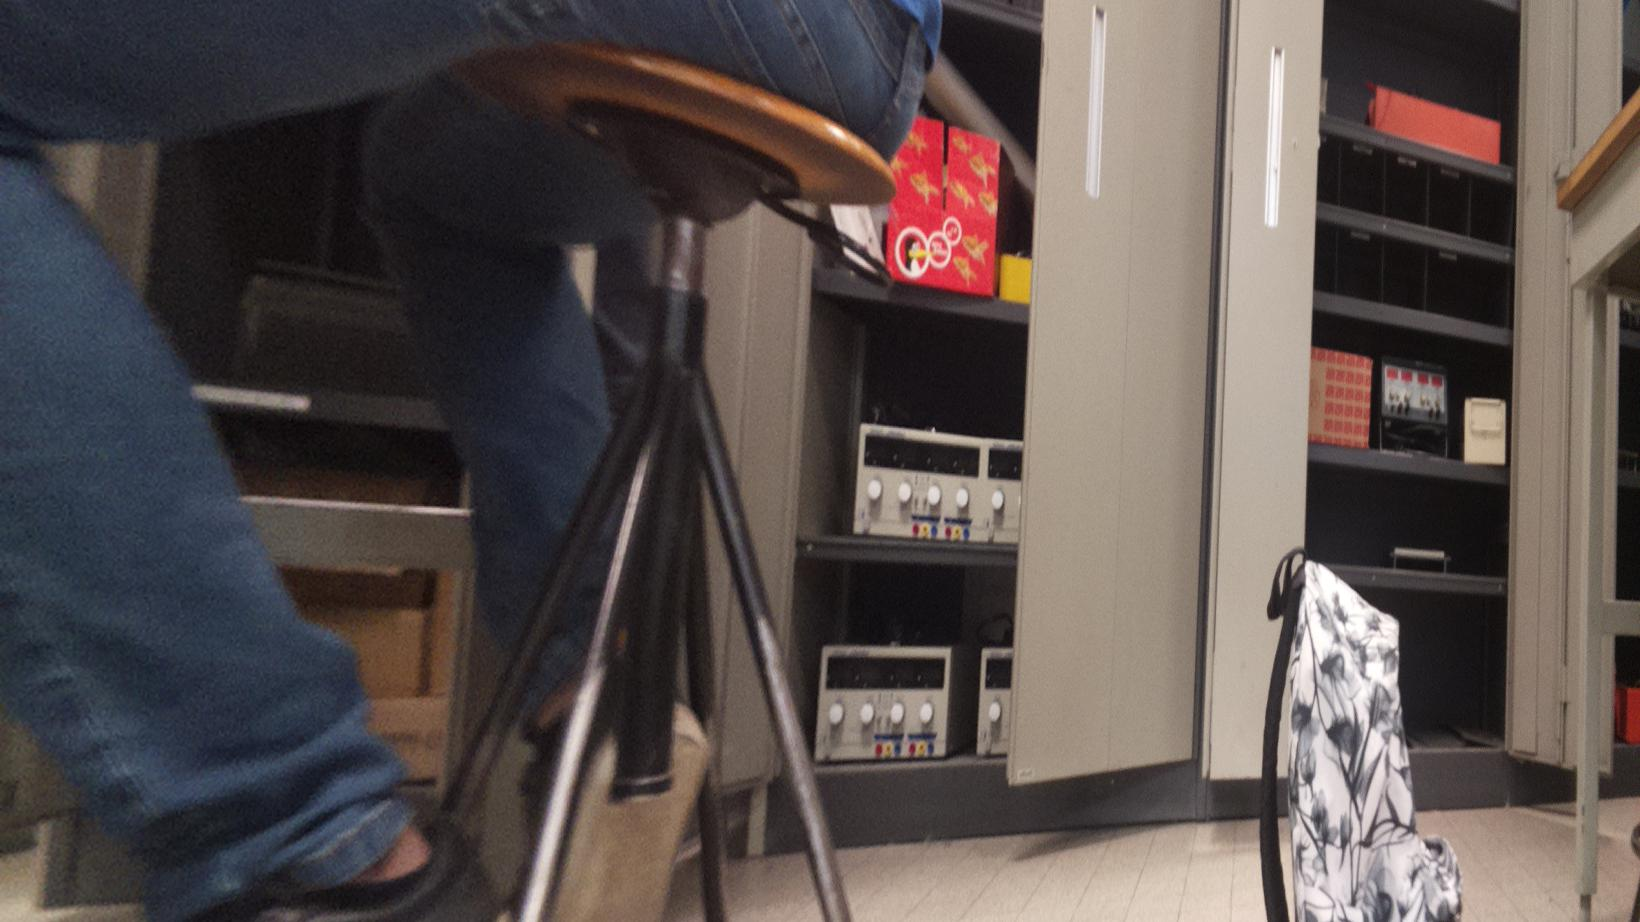big: (1249, 543, 1467, 922)
